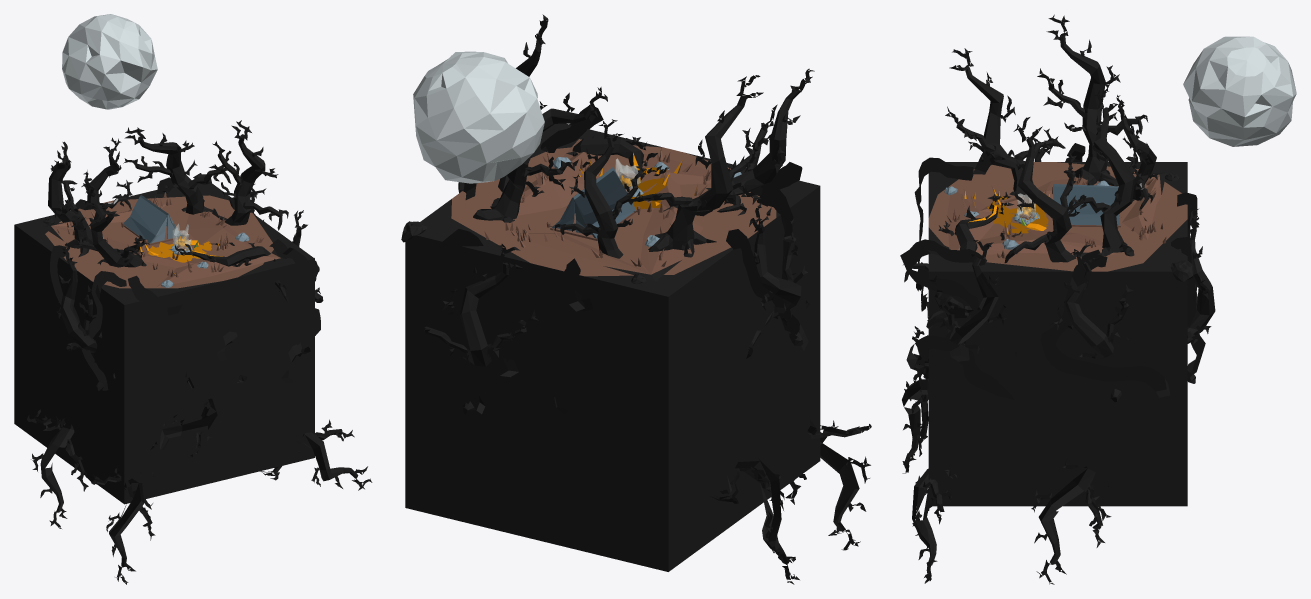
Rendered from eerie-camp-by-jarlan-perez-21dQxYUqYpa.glb.
3 views of the same model, side by side, from view 1: azimuth 30°, elevation 25°; view 2: azimuth 150°, elevation 25°; view 3: azimuth 270°, elevation 25° (orthographic). The views are drawn at different scales.
Visible parts, largest first — view 1: Node; view 2: Node; view 3: Node.
Boxes of the visible parts, x1,y1,x2,y2 form: Node: [14, 14, 372, 584]; Node: [401, 14, 871, 584]; Node: [900, 14, 1296, 584].
Bounding box in the file's own units: 2.33 × 3.38 × 2.4.
